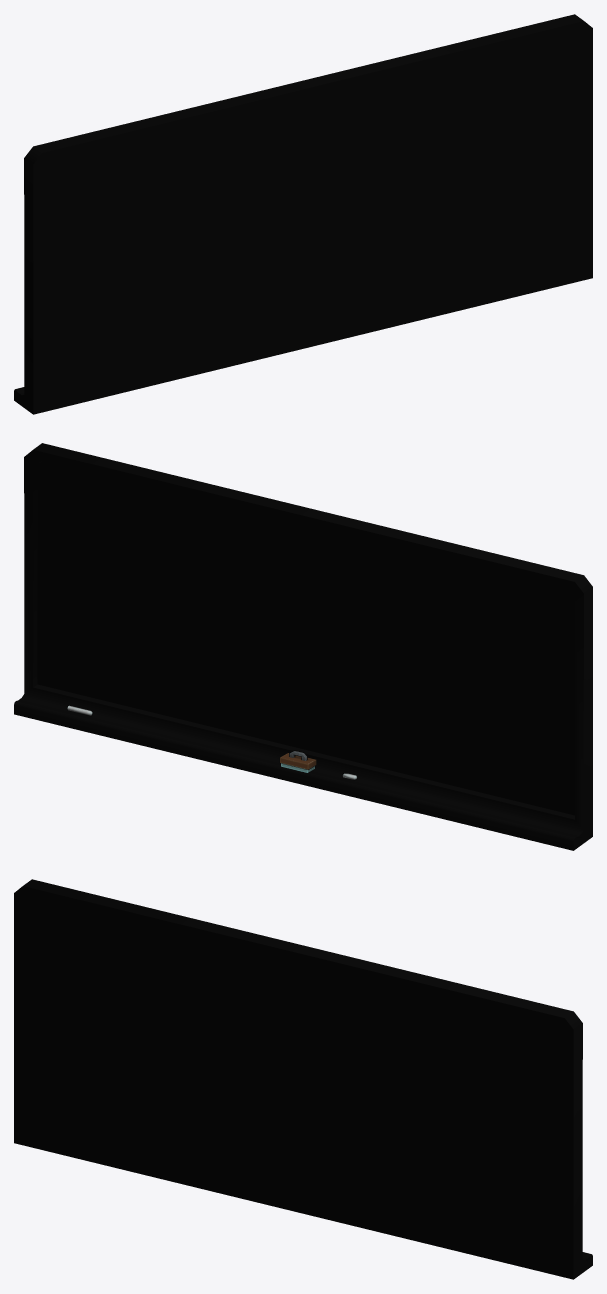
File: Chalkboard.fbx
The picture shows the model from 3 angles, top to bottom: view 1: azimuth 30°, elevation 25°; view 2: azimuth 150°, elevation 25°; view 3: azimuth 330°, elevation 25°; orthographic projection.
Visible parts, largest first — view 1: chalkboard; view 2: chalkboard; view 3: chalkboard.
Part boxes in pixels (left/top/right/bottom): chalkboard: left=14, top=14, right=592, bottom=414; chalkboard: left=14, top=443, right=592, bottom=850; chalkboard: left=14, top=879, right=592, bottom=1279.
Size of the model in its own units: 415 by 184 by 24.91.
